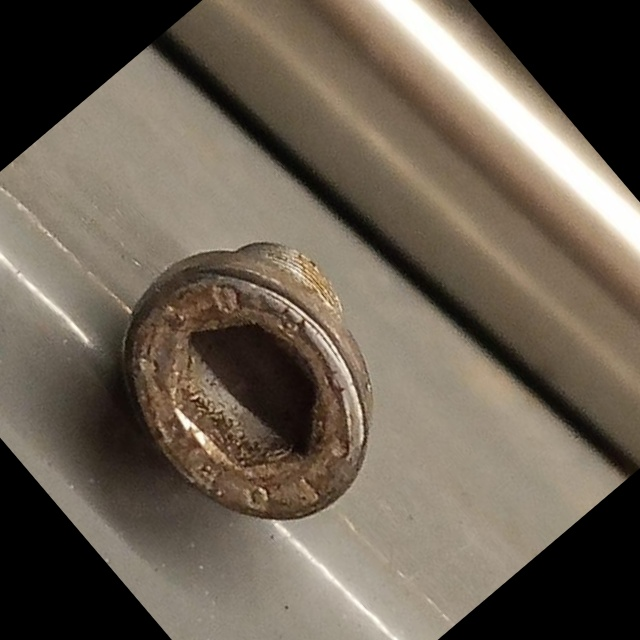allen: (73, 207, 425, 567)
